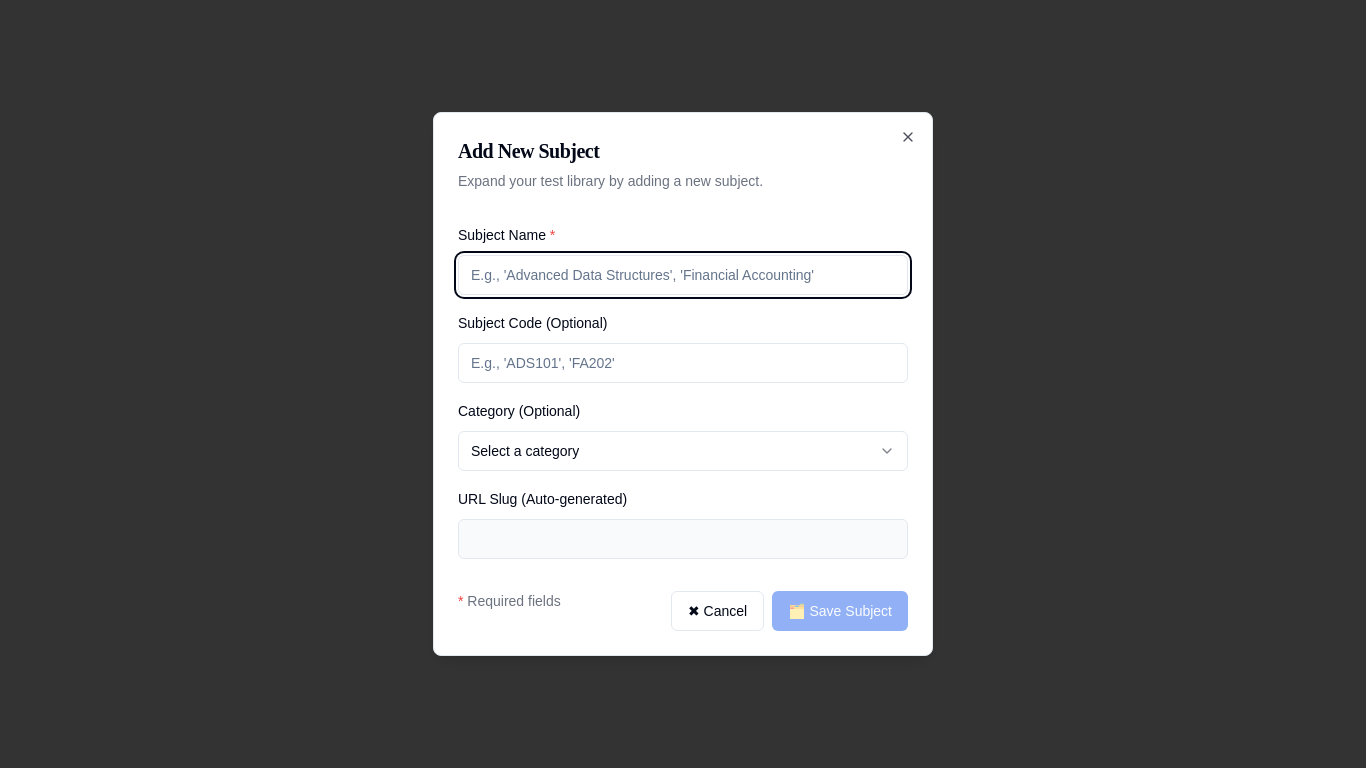
Test: AddSubjectModal › generates a slug from the subject name
Note: Enter a subject name
Step 1. Type "Advanced Data Structures" into the field with placeholder "E.g., 'Advanced Data Structures', 'Financial Accounting'" → (683, 275), box [458,255,908,295]
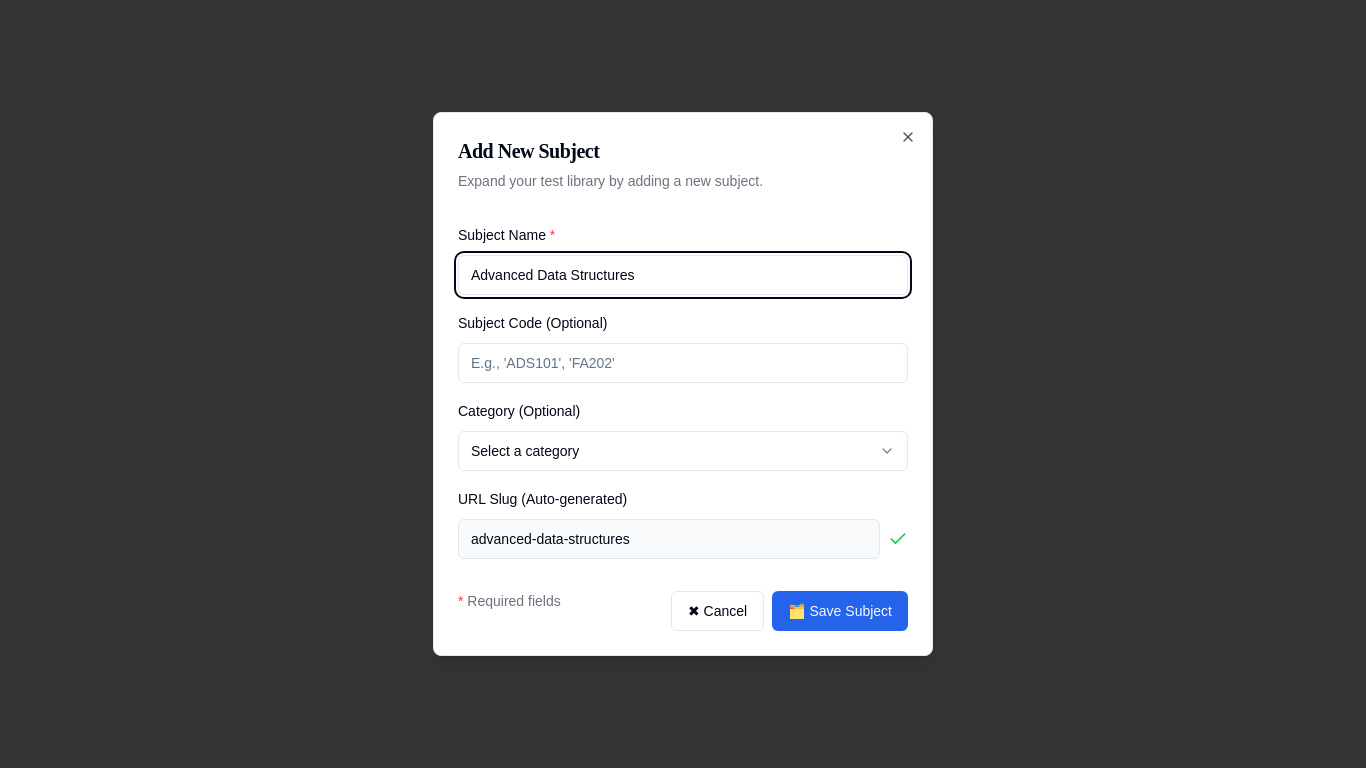
Expected: the field showing "advanced-data-structures" is shown, [458,519,880,559]
